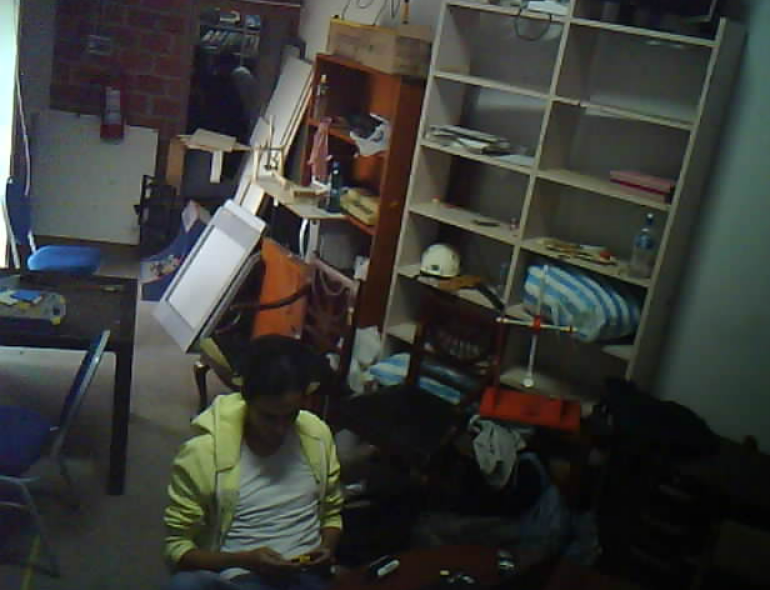person: (142, 320, 345, 590), (170, 17, 284, 141)
